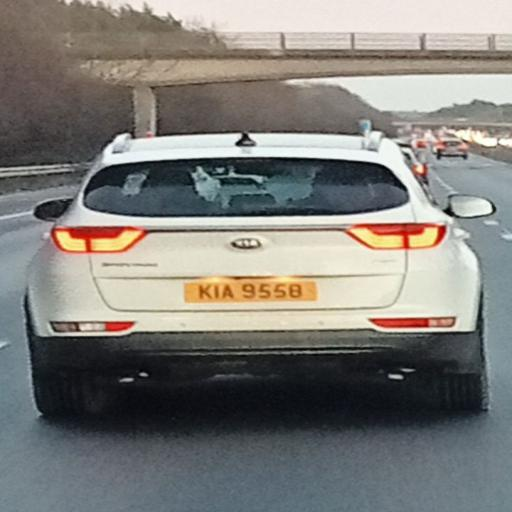numberplates: (185, 279, 317, 303)
